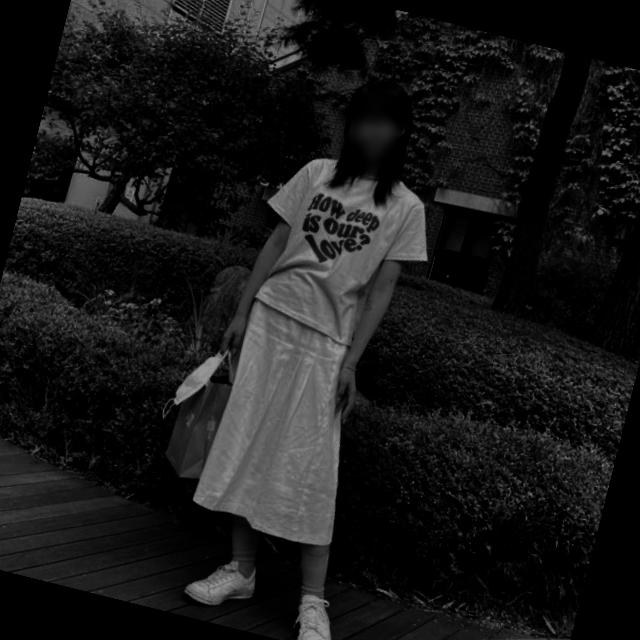shortsleeve: (233, 137, 446, 356)
skirt: (190, 297, 389, 552)
